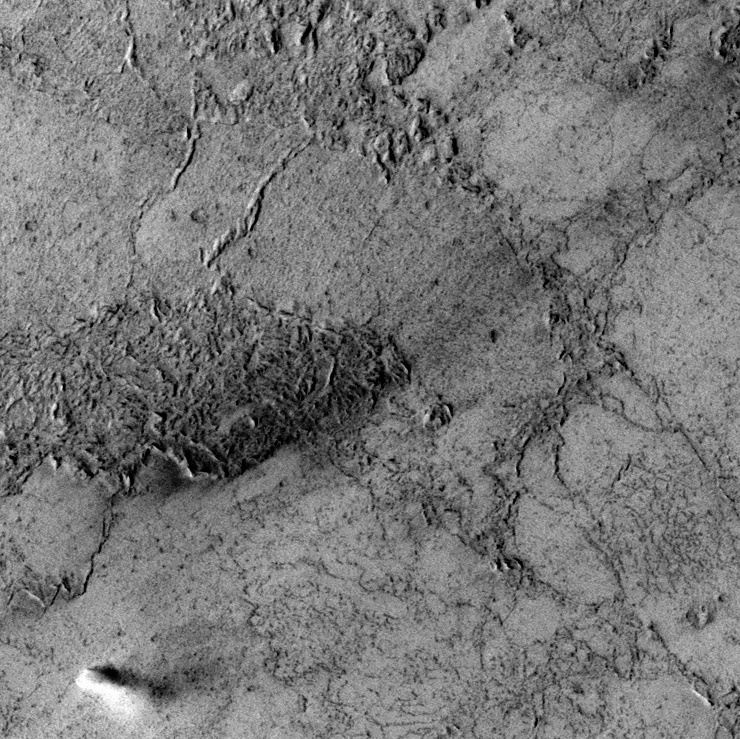dust_devil: (72, 659, 204, 725)
